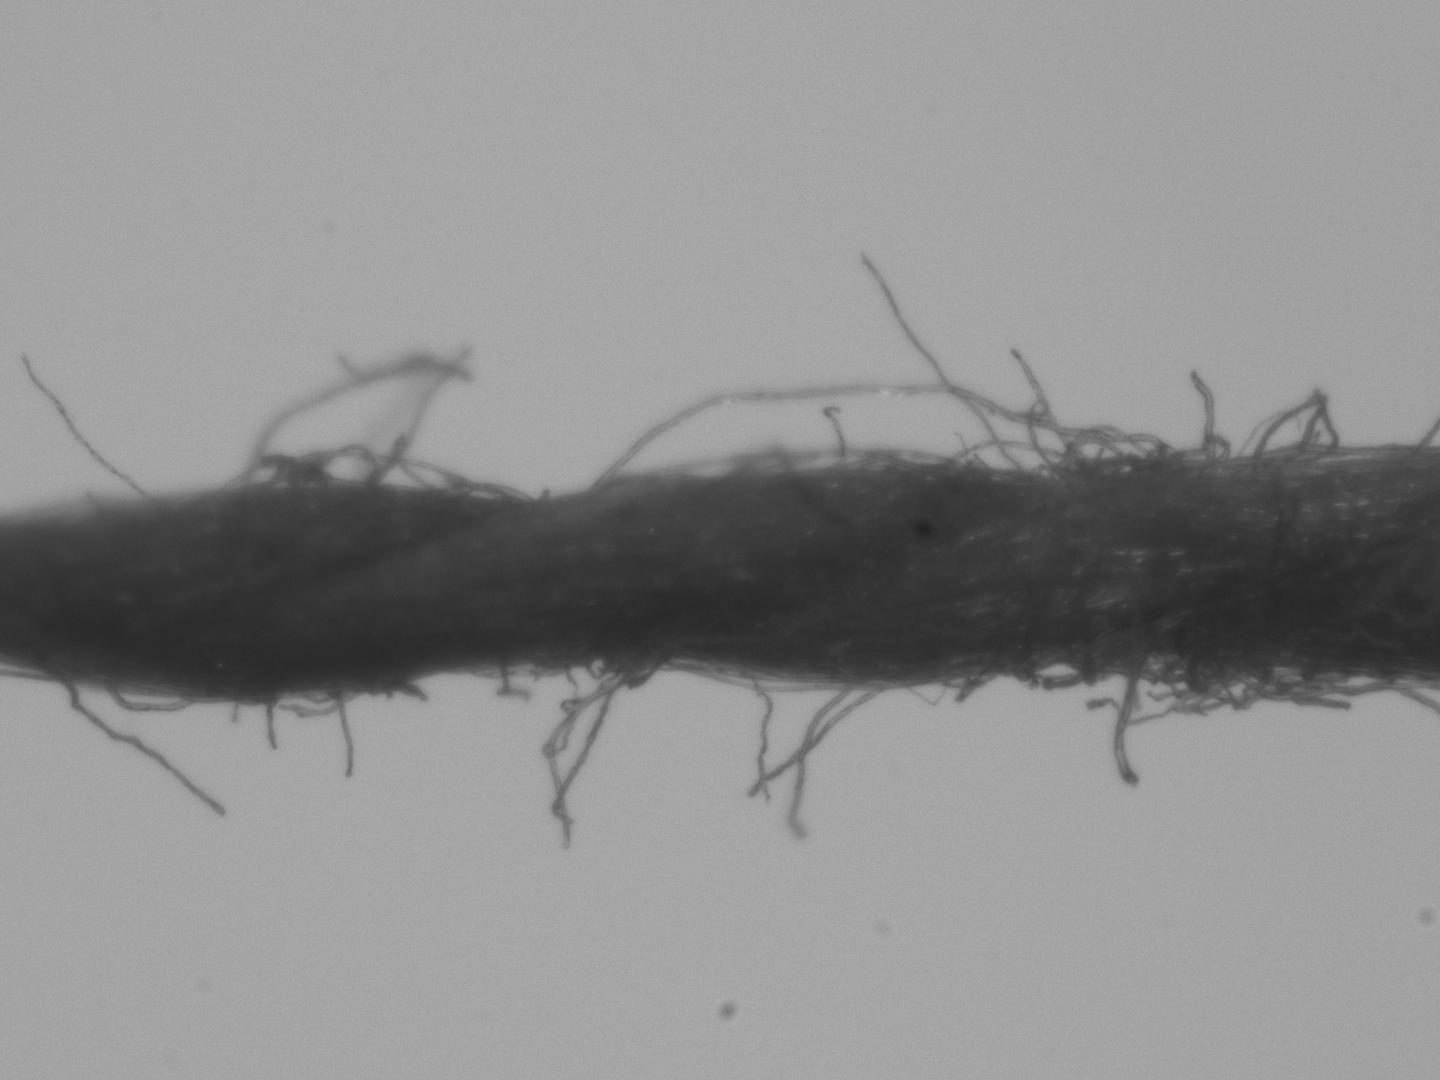loop_fiber: (590, 383, 1163, 488), (669, 658, 875, 692), (1250, 395, 1336, 454), (1188, 661, 1276, 711), (99, 675, 196, 711), (261, 685, 365, 718), (363, 442, 429, 490), (1007, 661, 1111, 689), (1303, 669, 1400, 695), (444, 480, 531, 504), (314, 446, 374, 480), (1174, 432, 1228, 463)
